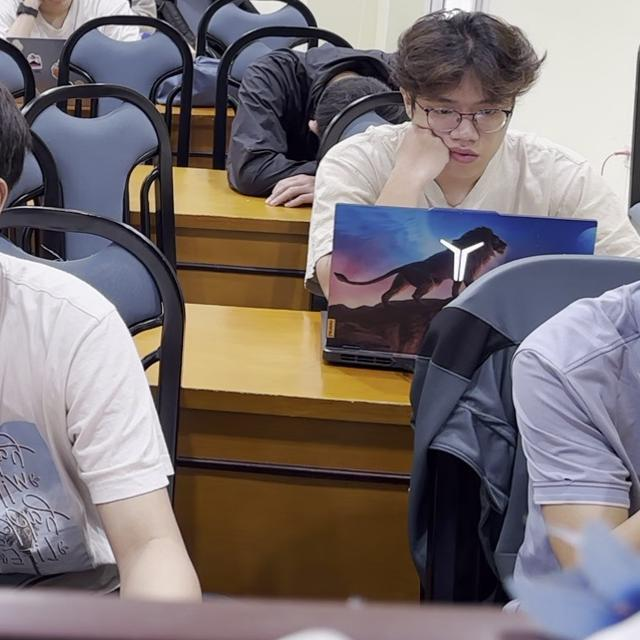Looking away: (403, 80, 516, 171)
